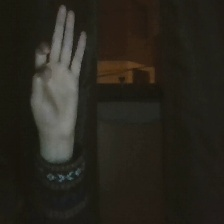F: (24, 3, 92, 141)
